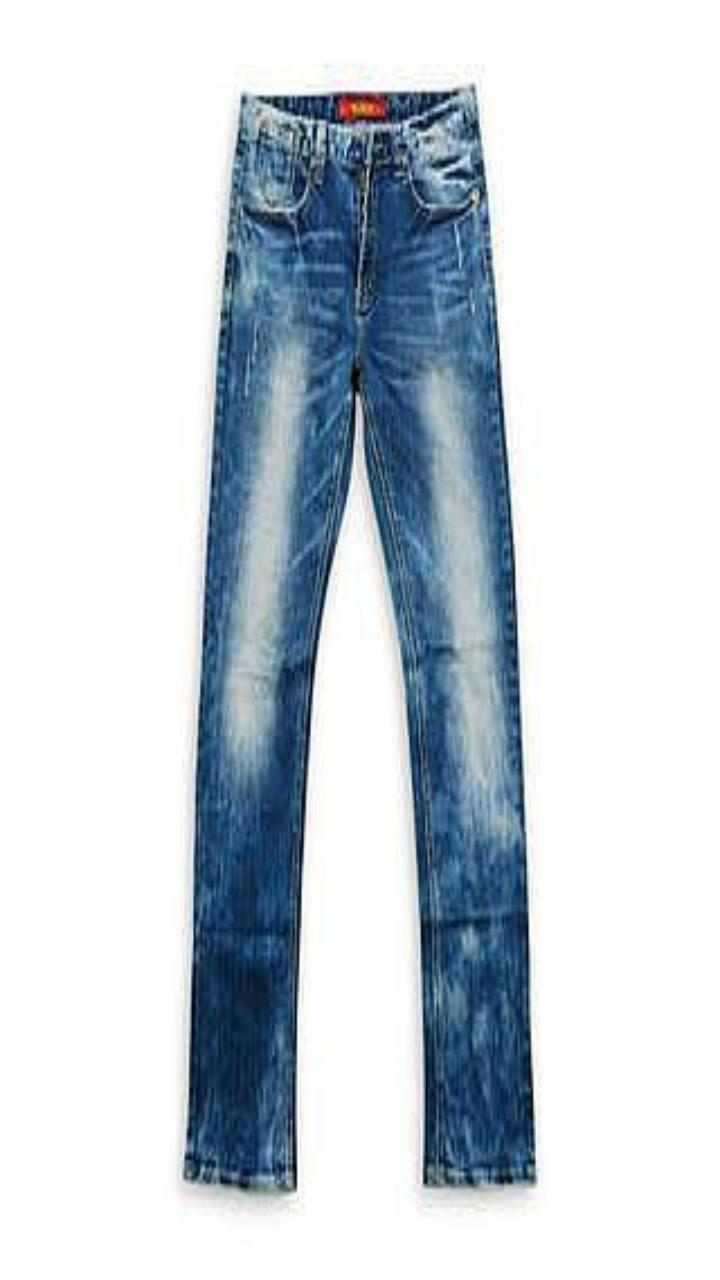Jeans: (184, 84, 534, 1188)
